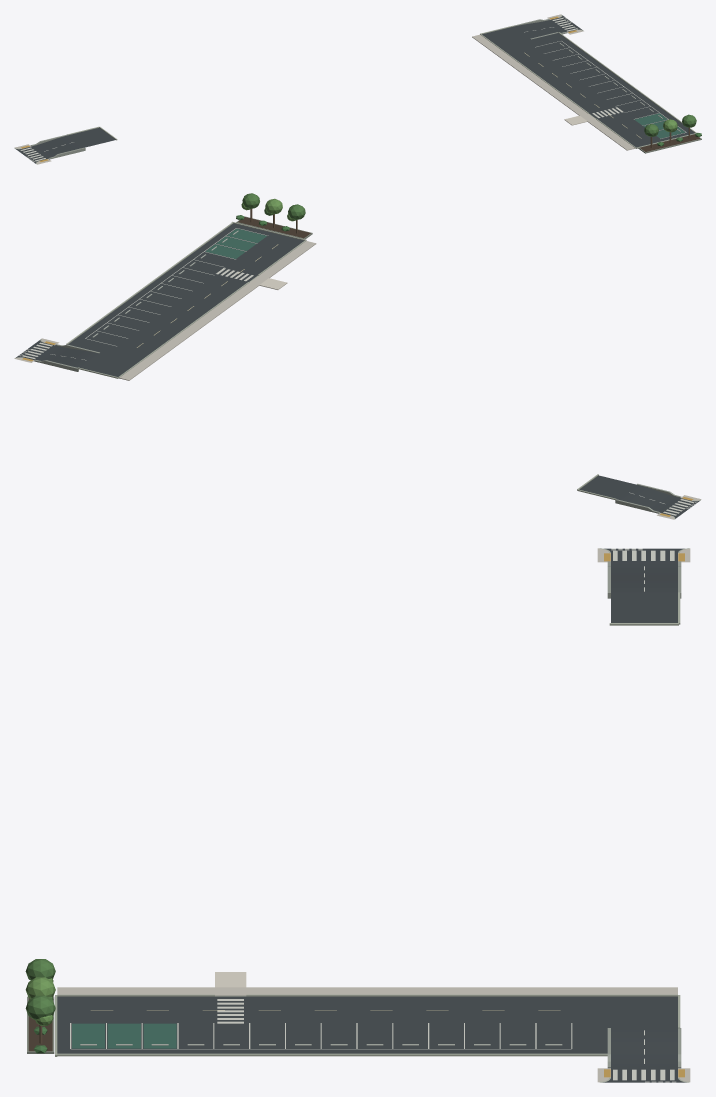
Rendered from campus-parking.glb.
3 views of the same model, one above another, from view 1: azimuth 30°, elevation 25°; view 2: azimuth 150°, elevation 25°; view 3: azimuth 270°, elevation 25° (orthographic). The views are drawn at different scales.
Parts seen in each view (by area): view 1: parking-east-lot asphalt, parking-east-lot footway paving, parking-access-west asphalt, parking-access-east asphalt, parking-east-lot concrete kerb, parking-east-lot white line paint, parking-east-lot EV bay green, parking-east-lot tree canopy, parking-east-lot planter soil; view 2: parking-east-lot asphalt, parking-east-lot footway paving, parking-access-west asphalt, parking-access-east asphalt, parking-east-lot concrete kerb, parking-east-lot EV bay green, parking-east-lot white line paint; view 3: parking-east-lot asphalt, parking-east-lot footway paving, parking-access-west asphalt, parking-east-lot concrete kerb, parking-access-east asphalt, parking-east-lot EV bay green, parking-east-lot white line paint, parking-east-lot tree canopy.
Boxes of the visible parts, x1,y1,x2,y2 form: parking-east-lot asphalt: (482,26,694,147); parking-east-lot footway paving: (472,34,635,150); parking-access-west asphalt: (16,127,115,163); parking-access-east asphalt: (514,15,582,38); parking-east-lot concrete kerb: (480,25,696,148); parking-east-lot white line paint: (535,41,686,138); parking-east-lot EV bay green: (634,113,685,138); parking-east-lot tree canopy: (644,114,696,136); parking-east-lot planter soil: (640,134,700,151); parking-east-lot asphalt: (68,223,303,376); parking-east-lot footway paving: (119,241,316,380); parking-access-west asphalt: (579,475,699,518); parking-access-east asphalt: (16,339,98,367); parking-east-lot concrete kerb: (66,221,306,378); parking-east-lot EV bay green: (205,228,266,258); parking-east-lot white line paint: (85,228,268,346); parking-east-lot asphalt: (57,996,677,1053); parking-east-lot footway paving: (57,987,677,995); parking-access-west asphalt: (604,548,684,622); parking-east-lot concrete kerb: (55,994,680,1056); parking-access-east asphalt: (603,1028,685,1082); parking-east-lot EV bay green: (72,1023,176,1048); parking-east-lot white line paint: (70,999,572,1049); parking-east-lot tree canopy: (25,959,55,1020).
Bounding box in the file's own units: 113 × 5.21 × 59.42.
